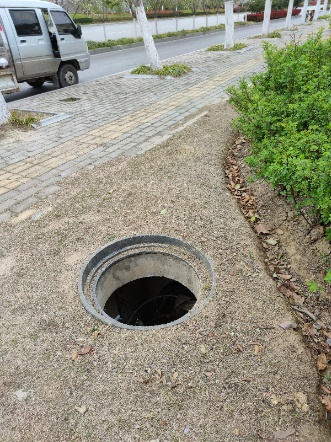lose: (78, 233, 215, 330)
